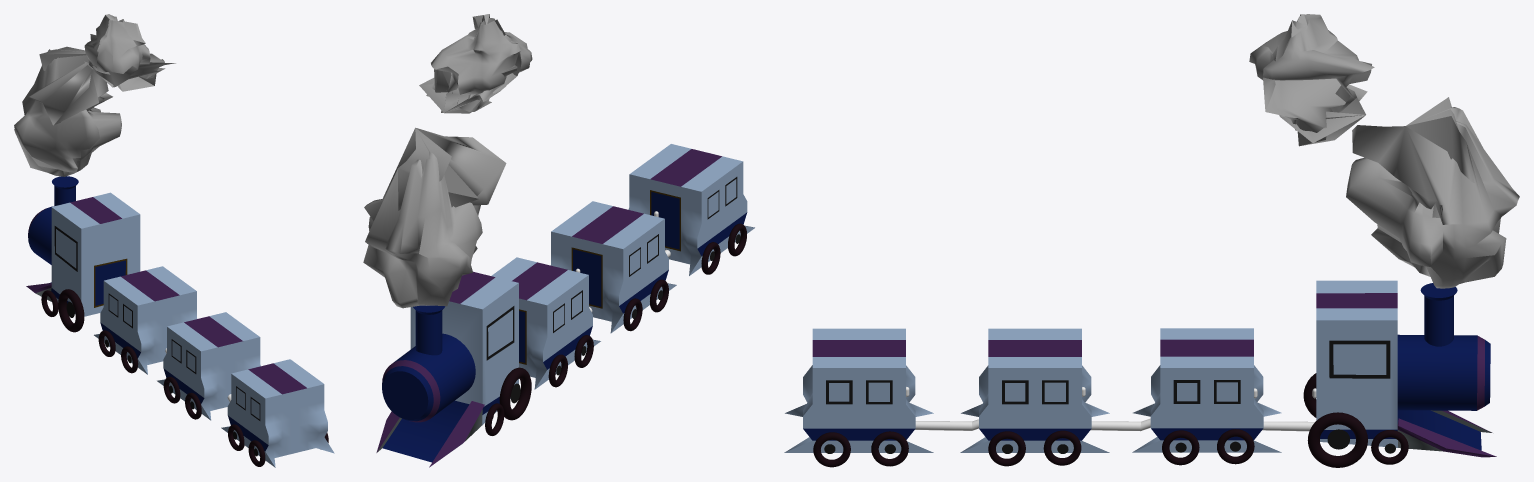
The model's file is Train.fbx.
3 views of the same model, side by side, from view 1: azimuth 30°, elevation 25°; view 2: azimuth 150°, elevation 25°; view 3: azimuth 270°, elevation 25° (orthographic). The views are drawn at different scales.
Parts seen in each view (by area): view 1: Sphere, Cube_1, Cube_4, Cube_3, Cube, Sphere_1, Cylinder, Torus_5, Cylinder_1; view 2: Sphere, Cube_1, Cube_4, Cube_3, Cube, Sphere_1, Cylinder, Cylinder_1, Torus_5, Torus_1, Torus_7, Torus (+4 smaller); view 3: Sphere, Cube_1, Cube_4, Cube_3, Cube, Sphere_1, Cylinder, Torus_4, Cylinder_1, Torus_8.
Boxes of the visible parts, bbox=[...] form: Sphere: bbox=[14, 46, 121, 176]; Cube_1: bbox=[26, 192, 140, 316]; Cube_4: bbox=[221, 359, 334, 467]; Cube_3: bbox=[157, 312, 260, 420]; Cube: bbox=[94, 266, 197, 374]; Sphere_1: bbox=[84, 14, 175, 91]; Cylinder: bbox=[28, 206, 53, 264]; Torus_5: bbox=[58, 289, 84, 332]; Cylinder_1: bbox=[52, 176, 78, 206]; Sphere: bbox=[363, 127, 506, 308]; Cube_1: bbox=[376, 271, 518, 467]; Cube_4: bbox=[628, 144, 754, 275]; Cube_3: bbox=[550, 201, 676, 333]; Cube: bbox=[491, 257, 600, 389]; Sphere_1: bbox=[419, 14, 532, 113]; Cylinder: bbox=[382, 333, 475, 422]; Cylinder_1: bbox=[413, 305, 445, 355]; Torus_5: bbox=[499, 367, 531, 420]; Torus_1: bbox=[574, 335, 593, 367]; Torus_7: bbox=[485, 403, 504, 435]; Torus: bbox=[548, 354, 567, 387]; Sphere: bbox=[1346, 97, 1519, 288]; Cube_1: bbox=[1316, 280, 1496, 457]; Cube_4: bbox=[784, 328, 933, 452]; Cube_3: bbox=[960, 328, 1109, 452]; Cube: bbox=[1132, 328, 1281, 452]; Sphere_1: bbox=[1249, 14, 1374, 146]; Cylinder: bbox=[1397, 334, 1490, 410]; Torus_4: bbox=[1307, 412, 1367, 467]; Cylinder_1: bbox=[1420, 283, 1457, 346]; Torus_8: bbox=[1043, 430, 1081, 465].
Bounding box in the file's own units: 318 × 1013 × 1574.
